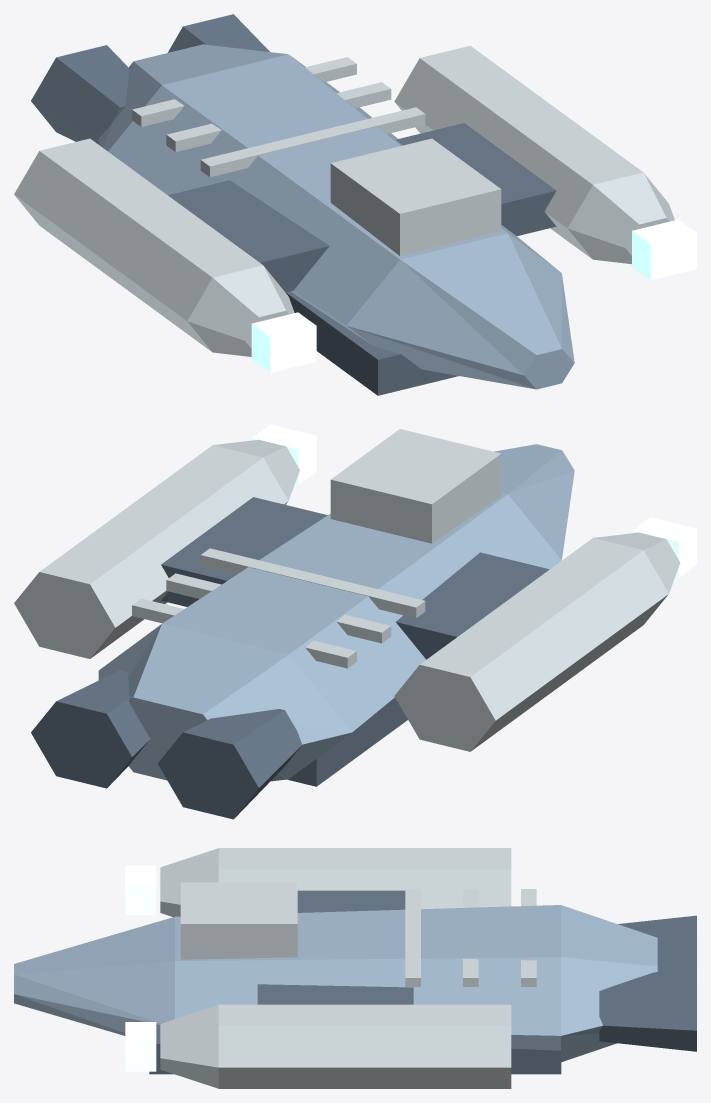
The picture shows the model from 3 angles, top to bottom: view 1: azimuth 30°, elevation 25°; view 2: azimuth 150°, elevation 25°; view 3: azimuth 270°, elevation 25°; orthographic projection. The views are drawn at different scales.
Bounding box in the file's own units: 5.15 × 1.62 × 7.49.
